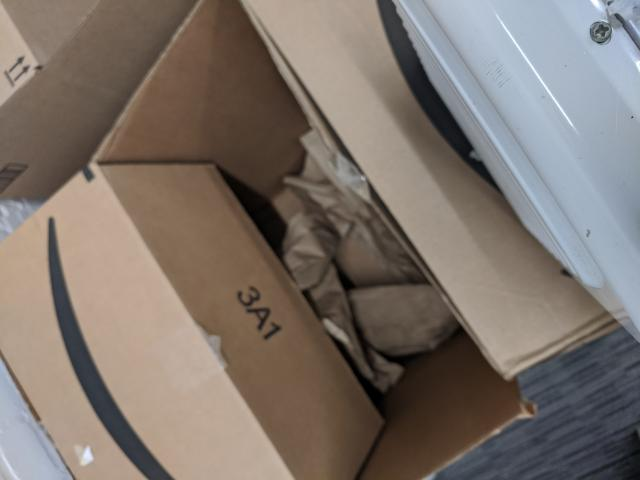CRS: (586, 18, 614, 43)
